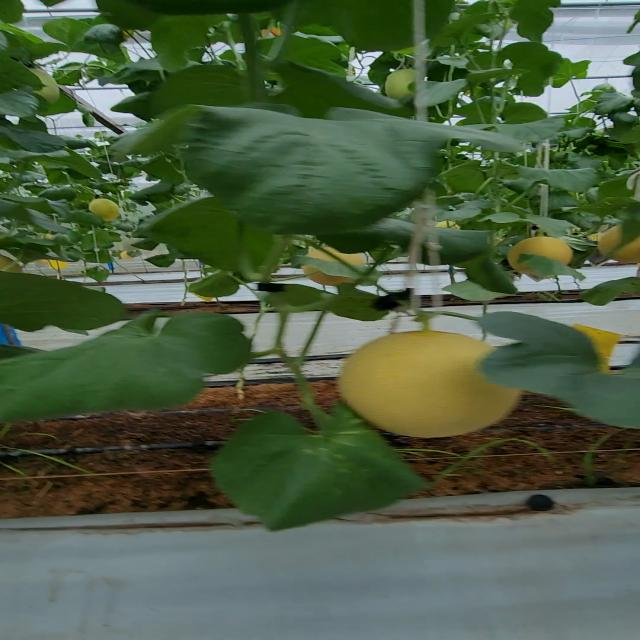Melon: (336, 333, 529, 438)
